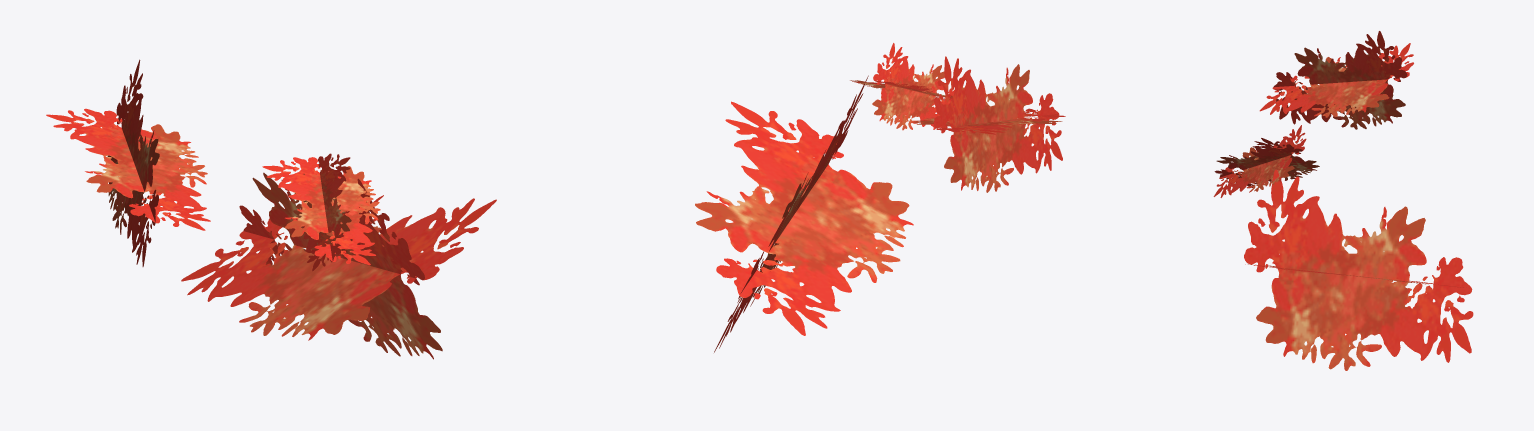
File: chouka_shu_zi_ye.FBX
The picture shows the model from 3 angles, left to right: view 1: azimuth 30°, elevation 25°; view 2: azimuth 150°, elevation 25°; view 3: azimuth 270°, elevation 25°; orthographic projection. The views are drawn at different scales.
Parts seen in each view (by area): view 1: chouka_shu_zi_ye; view 2: chouka_shu_zi_ye; view 3: chouka_shu_zi_ye.
Part boxes in pixels (x1,y1,x2,y2): chouka_shu_zi_ye: (46,59,496,359); chouka_shu_zi_ye: (695,43,1065,352); chouka_shu_zi_ye: (1213,31,1473,370).
Bounding box in the file's own units: 20.93 × 17.89 × 17.57.
Materials: 1 (1 with a texture image).
